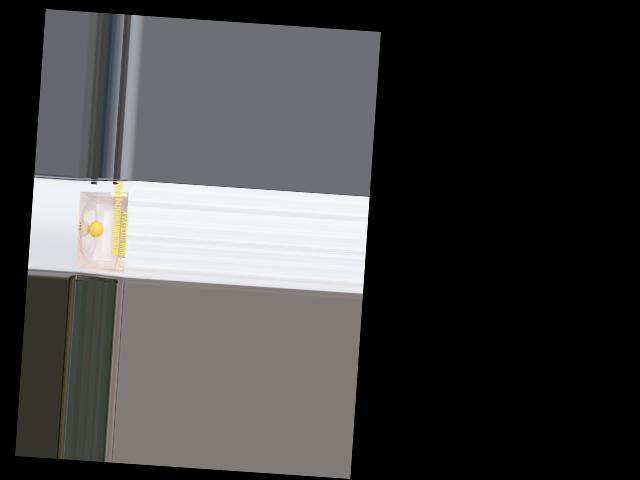lemon: (85, 211, 106, 238)
